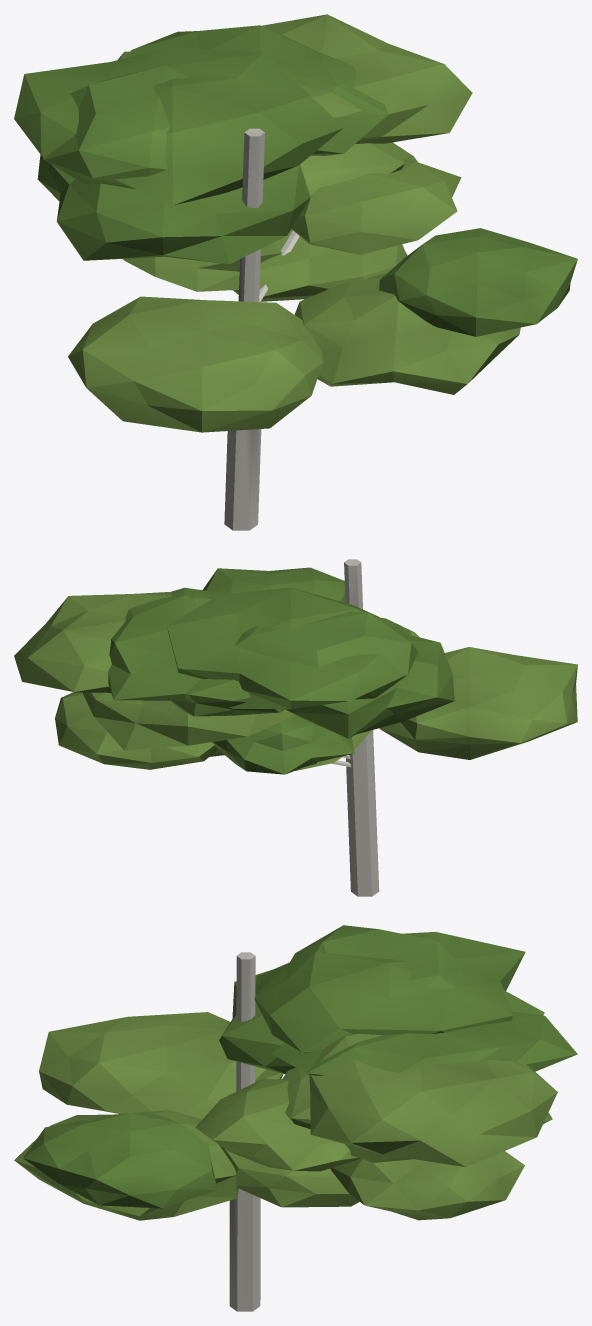
File: veg_bjork_2.glb
The picture shows the model from 3 angles, top to bottom: view 1: azimuth 30°, elevation 25°; view 2: azimuth 150°, elevation 25°; view 3: azimuth 270°, elevation 25°; orthographic projection. The views are drawn at different scales.
Parts seen in each view (by area): view 1: geometry_0; view 2: geometry_0; view 3: geometry_0.
Part boxes in pixels (<box>): geometry_0: <box>14,14,577,530</box>; geometry_0: <box>14,559,577,896</box>; geometry_0: <box>14,925,577,1311</box>.
Bounding box in the file's own units: 1.33 × 1 × 1.43.
